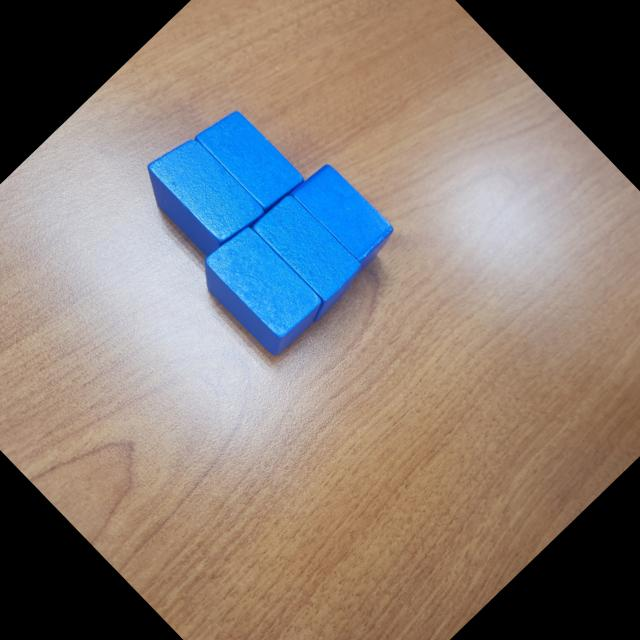blue: (191, 218, 333, 361), (133, 125, 270, 264), (235, 188, 371, 325), (280, 156, 402, 280), (193, 100, 306, 214)
